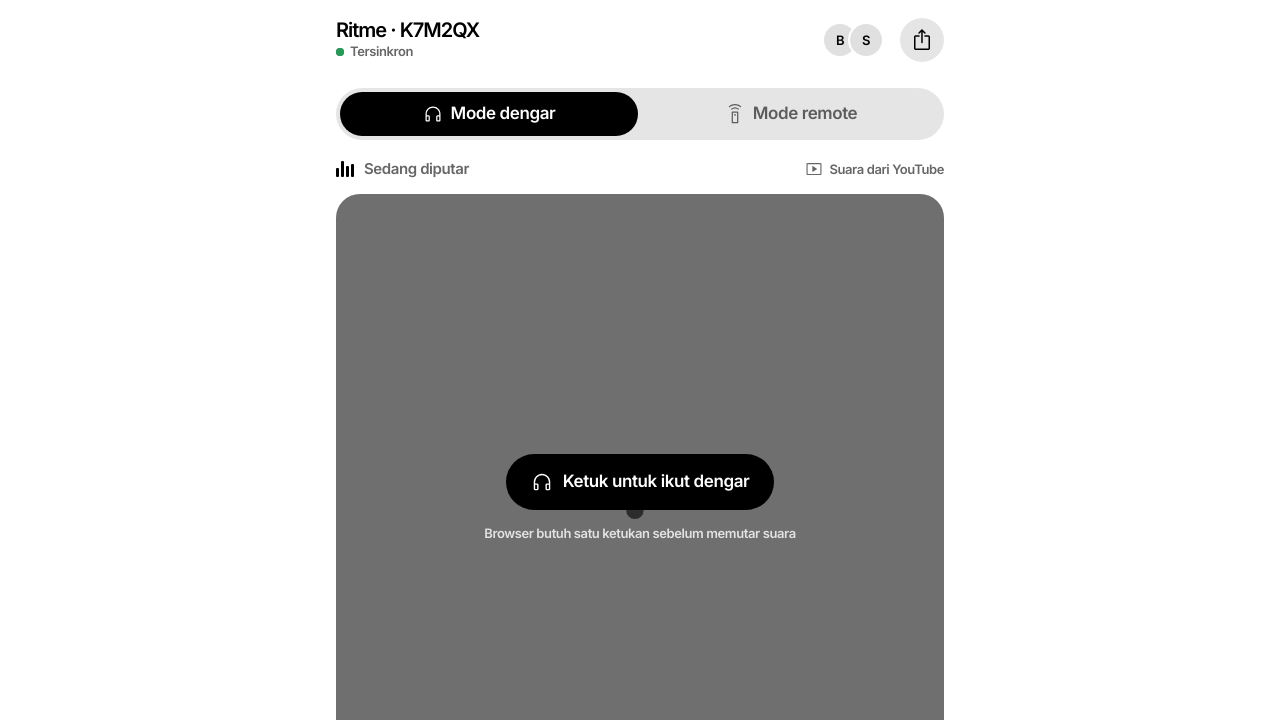
Test case: RoomScreen across the desktop breakpoint › keeps the same .player element and controller when the window crosses 1024 px, both ways
This screenshot has width=1280, height=720.
Click the button "Ketuk untuk ikut dengar" at (640, 482), box [506,454,774,510]
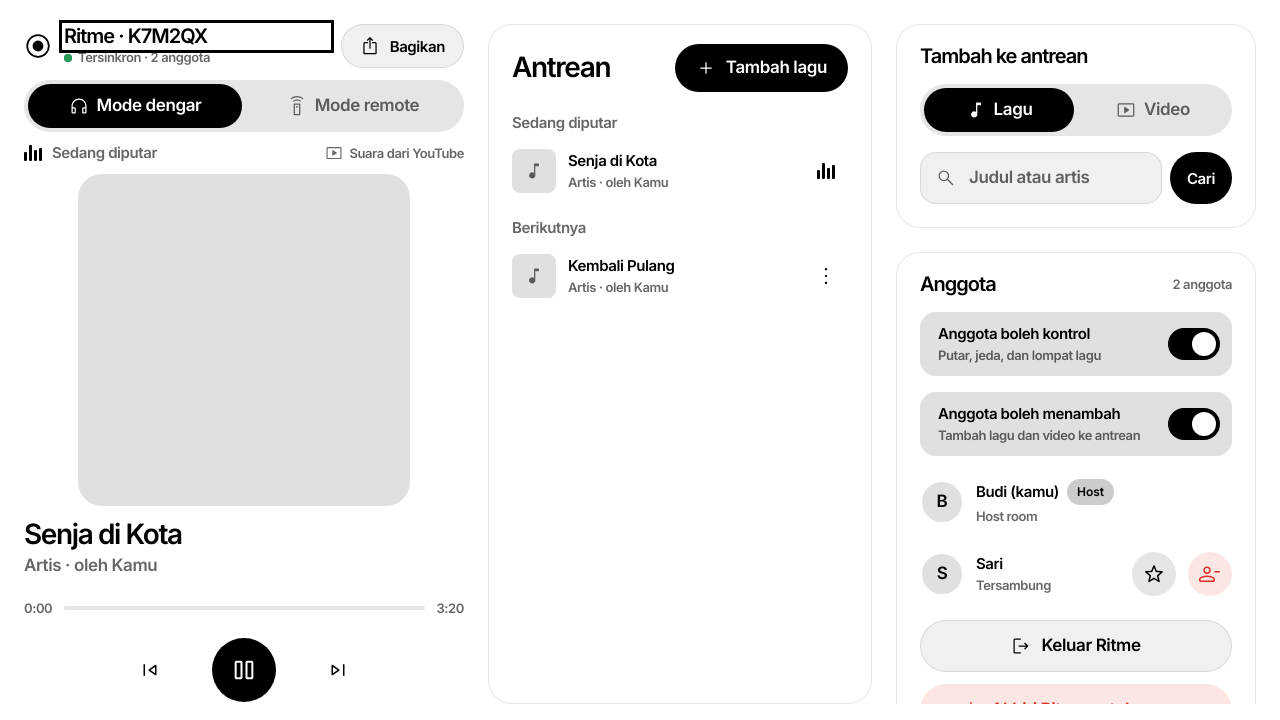
Now the button "Ketuk untuk ikut dengar" is gone
